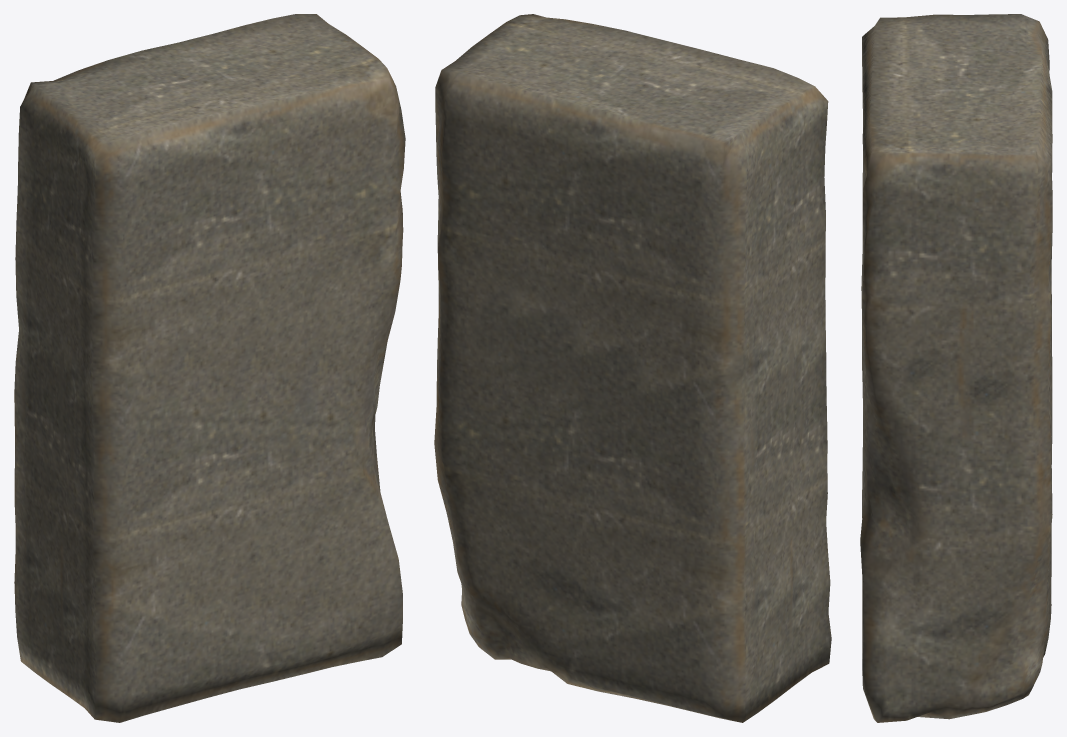
File: brick2_Gold.fbx
3 views of the same model, side by side, from view 1: azimuth 30°, elevation 25°; view 2: azimuth 150°, elevation 25°; view 3: azimuth 270°, elevation 25° (orthographic). The views are drawn at different scales.
Visible parts, largest first — view 1: Brick2; view 2: Brick2; view 3: Brick2.
Part boxes in pixels (box(x1,y1,x2,y2)): Brick2: box(14, 14, 405, 722); Brick2: box(434, 14, 831, 722); Brick2: box(860, 14, 1052, 722).
Bounding box in the file's own units: 7.88 × 14.17 × 4.31.
